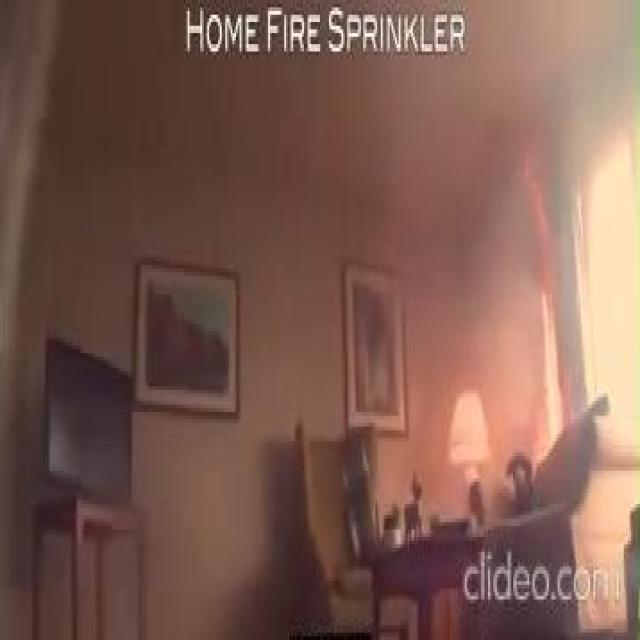smoke: (516, 147, 566, 471)
